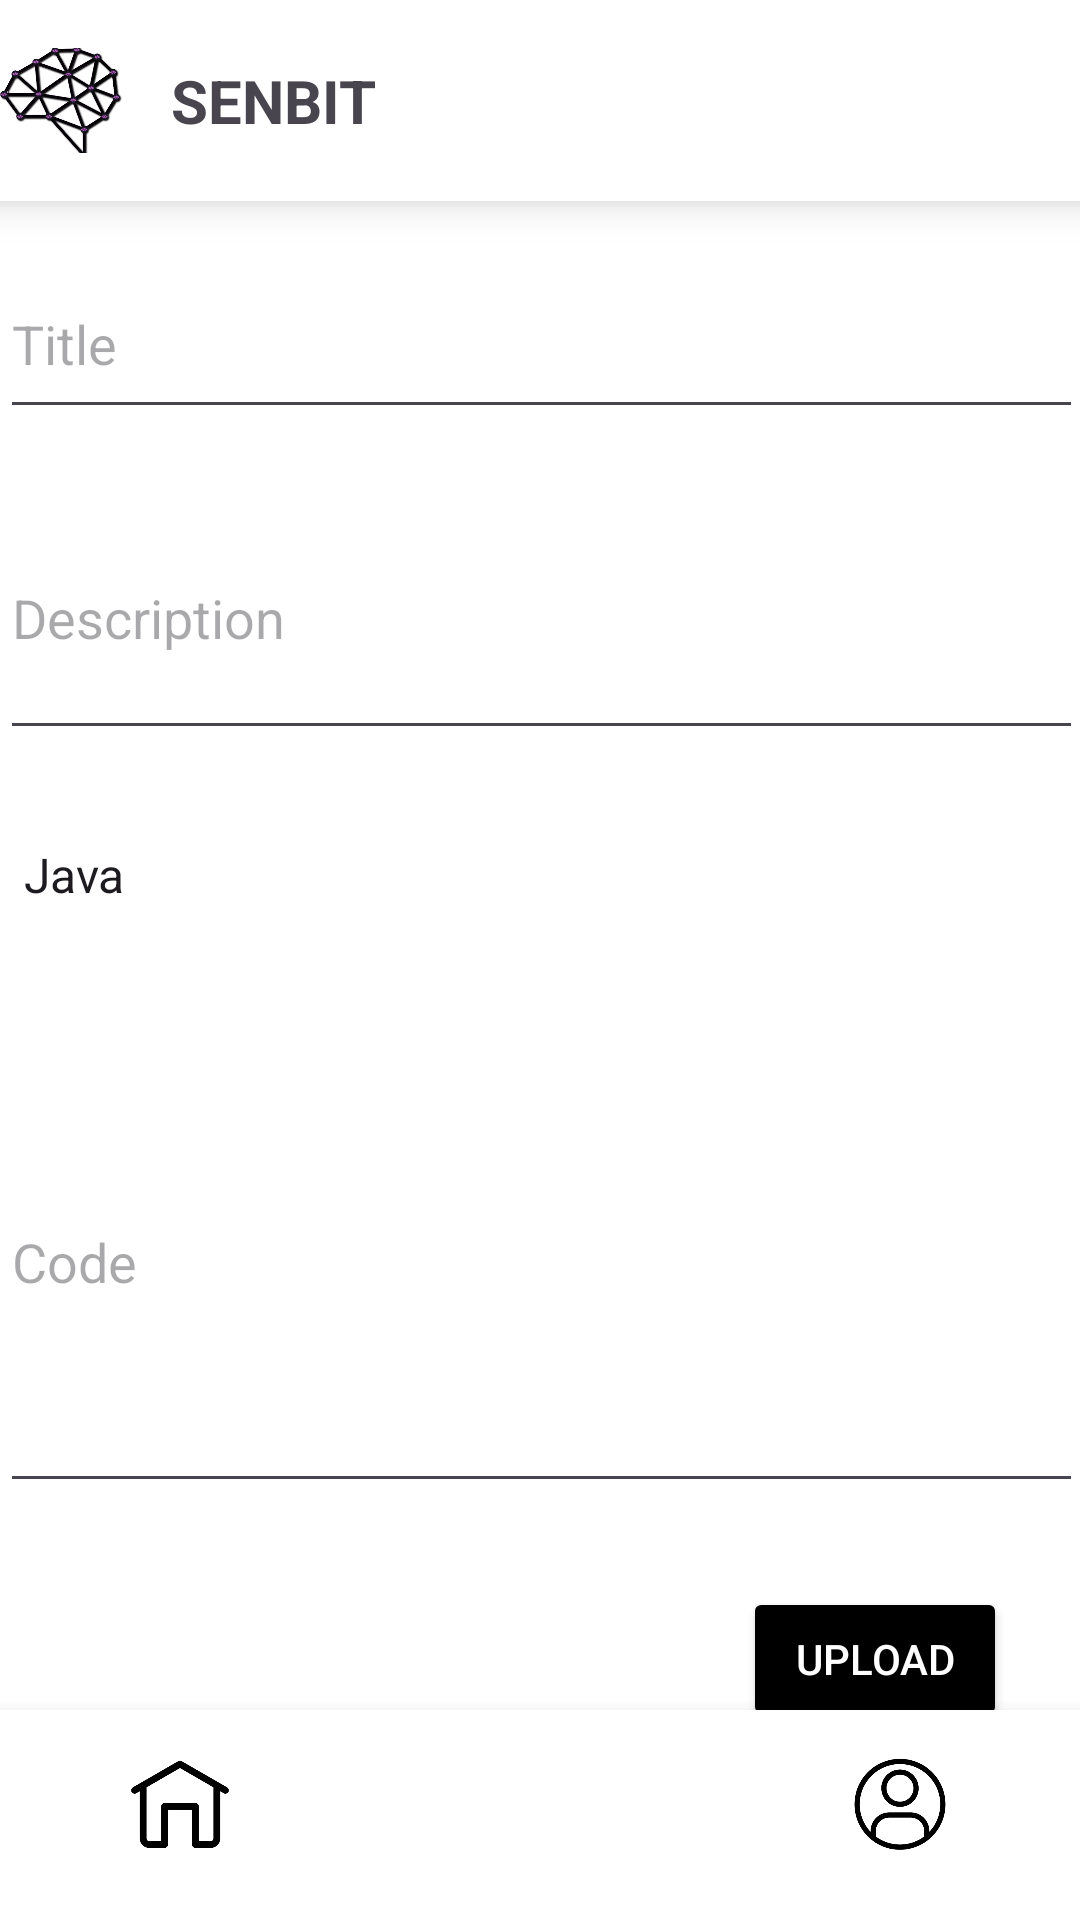

Screen size 1080px x 1920px. Icon name, then its box in pixels as detection(x1, y1, x2, y2):
Home: detection(131, 1761, 229, 1848)
Profile: detection(854, 1759, 946, 1850)
